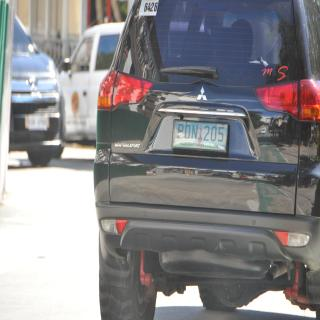license: (174, 121, 229, 153)
